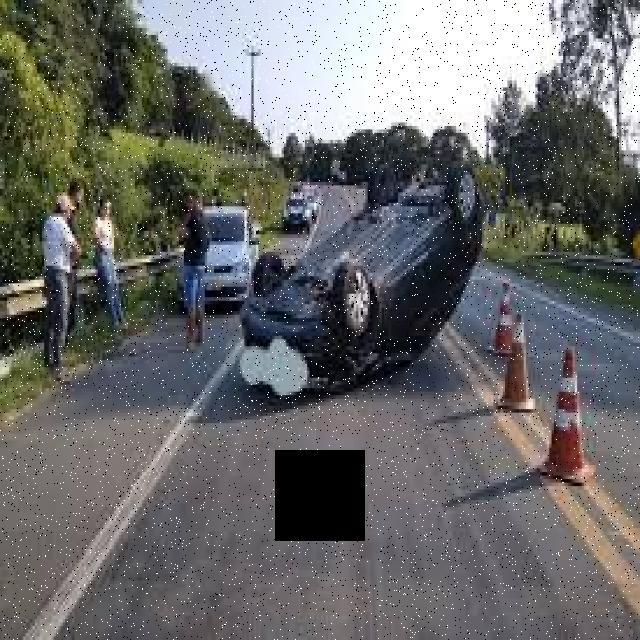severe: (234, 152, 486, 401)
